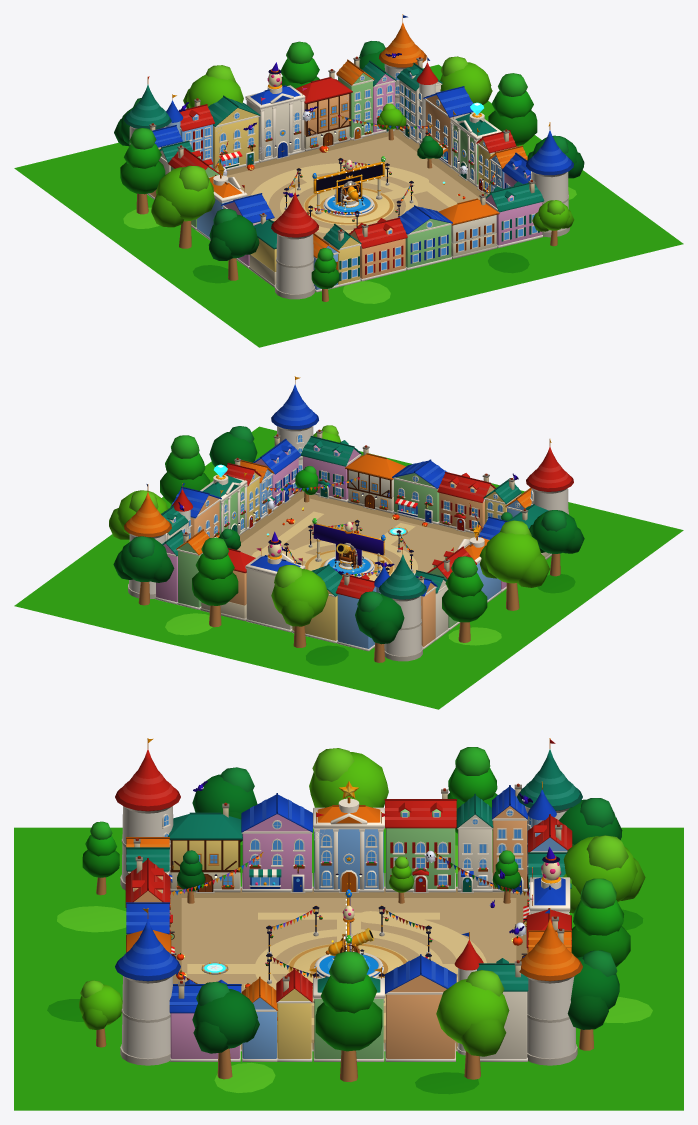
File: marketplace.fbx
The picture shows the model from 3 angles, top to bottom: view 1: azimuth 30°, elevation 25°; view 2: azimuth 150°, elevation 25°; view 3: azimuth 270°, elevation 25°; orthographic projection. The views are drawn at different scales.
Parts seen in each view (by area): view 1: Market_Ground, Market_Leaves, Market_HousesNorth, Market_Towers, Market_HousesSouth, Market_RoofsSouth, Market_HousesEast, Market_RoofsNorth, Market_RoofsEast, Market_RoofsWest, Market_HousesWest, HatcherySign (+4 smaller); view 2: Market_Ground, Market_Leaves, Market_Towers, Market_HousesNorth, Market_HousesSouth, Market_RoofsSouth, Market_HousesEast, Market_RoofsEast, Market_RoofsNorth, Market_RoofsWest, Market_HousesWest, Market_Trees (+3 smaller); view 3: Market_Ground, Market_Leaves, Market_HousesWest, Market_Towers, Market_HousesEast, Market_RoofsWest, Market_RoofsEast, Market_RoofsNorth, Market_RoofsSouth, Market_Trees, Market_Halloween, Market_Bunting (+2 smaller).
Boxes of the visible parts, left/top/right/bottom form: Market_Ground: left=14, top=64, right=683, bottom=347; Market_Leaves: left=114, top=41, right=584, bottom=288; Market_HousesNorth: left=166, top=75, right=395, bottom=171; Market_Towers: left=124, top=14, right=573, bottom=299; Market_HousesSouth: left=313, top=200, right=542, bottom=292; Market_RoofsSouth: left=313, top=180, right=544, bottom=258; Market_HousesEast: left=398, top=80, right=516, bottom=194; Market_RoofsNorth: left=166, top=56, right=396, bottom=131; Market_RoofsEast: left=397, top=56, right=531, bottom=183; Market_RoofsWest: left=149, top=123, right=276, bottom=249; Market_HousesWest: left=147, top=142, right=276, bottom=287; HatcherySign: left=312, top=156, right=385, bottom=214; Market_Ground: left=14, top=426, right=683, bottom=709; Market_Leaves: left=109, top=425, right=584, bottom=644; Market_Towers: left=124, top=376, right=573, bottom=661; Market_HousesNorth: left=155, top=549, right=380, bottom=651; Market_HousesSouth: left=302, top=454, right=521, bottom=533; Market_RoofsSouth: left=301, top=429, right=531, bottom=510; Market_HousesEast: left=166, top=458, right=299, bottom=539; Market_RoofsEast: left=161, top=434, right=300, bottom=535; Market_RoofsNorth: left=162, top=529, right=389, bottom=598; Market_RoofsWest: left=415, top=504, right=548, bottom=596; Market_HousesWest: left=421, top=552, right=551, bottom=649; Market_Trees: left=138, top=492, right=560, bottom=662; Market_Ground: left=14, top=827, right=683, bottom=1110; Market_Leaves: left=79, top=747, right=645, bottom=1056; Market_HousesWest: left=170, top=809, right=527, bottom=893; Market_Towers: left=115, top=738, right=582, bottom=1065; Market_HousesEast: left=170, top=968, right=527, bottom=1061; Market_RoofsWest: left=168, top=781, right=527, bottom=839; Market_RoofsEast: left=169, top=931, right=528, bottom=1013; Market_RoofsNorth: left=526, top=781, right=572, bottom=952; Market_RoofsSouth: left=125, top=837, right=171, bottom=953; Market_Trees: left=96, top=877, right=593, bottom=1082; Market_Halloween: left=176, top=781, right=559, bottom=1020; Market_Bunting: left=170, top=852, right=528, bottom=983.
Size of what is drawn, in the model's own units: 280 by 69.36 by 280.
